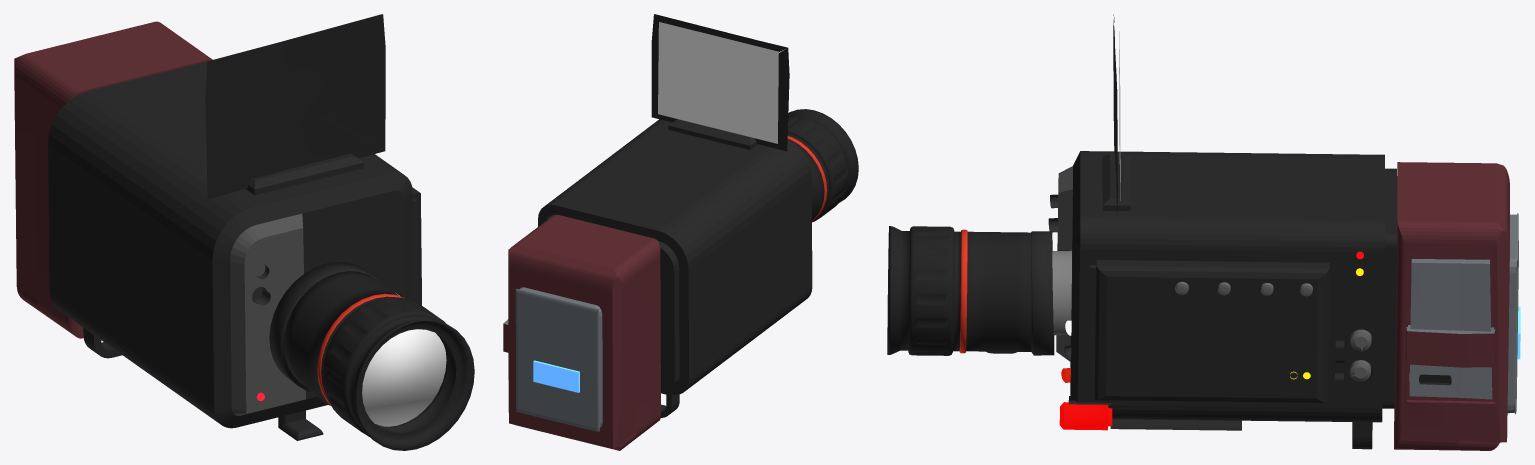
The model's file is video_camera.glb.
3 renders of one model, left to right at view 1: azimuth 30°, elevation 25°; view 2: azimuth 150°, elevation 25°; view 3: azimuth 270°, elevation 25°, orthographic. The views are drawn at different scales.
Visible parts, largest first — view 1: body; view 2: body, screen; view 3: body.
Boxes of the visible parts, bbox=[...] form: body: bbox=[14, 14, 474, 450]; body: bbox=[503, 14, 858, 450]; screen: bbox=[658, 22, 778, 143]; body: bbox=[887, 14, 1520, 450].
Size of the model in its own units: 0.315 by 0.5383 by 0.8293.
